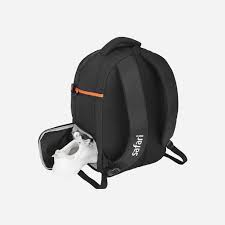backpack: (37, 36, 187, 189)
